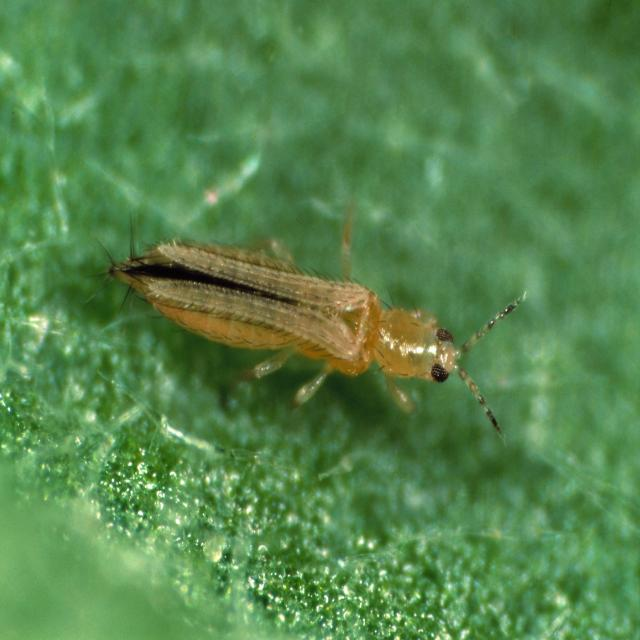Thrip-Adult-: (97, 193, 518, 443)
